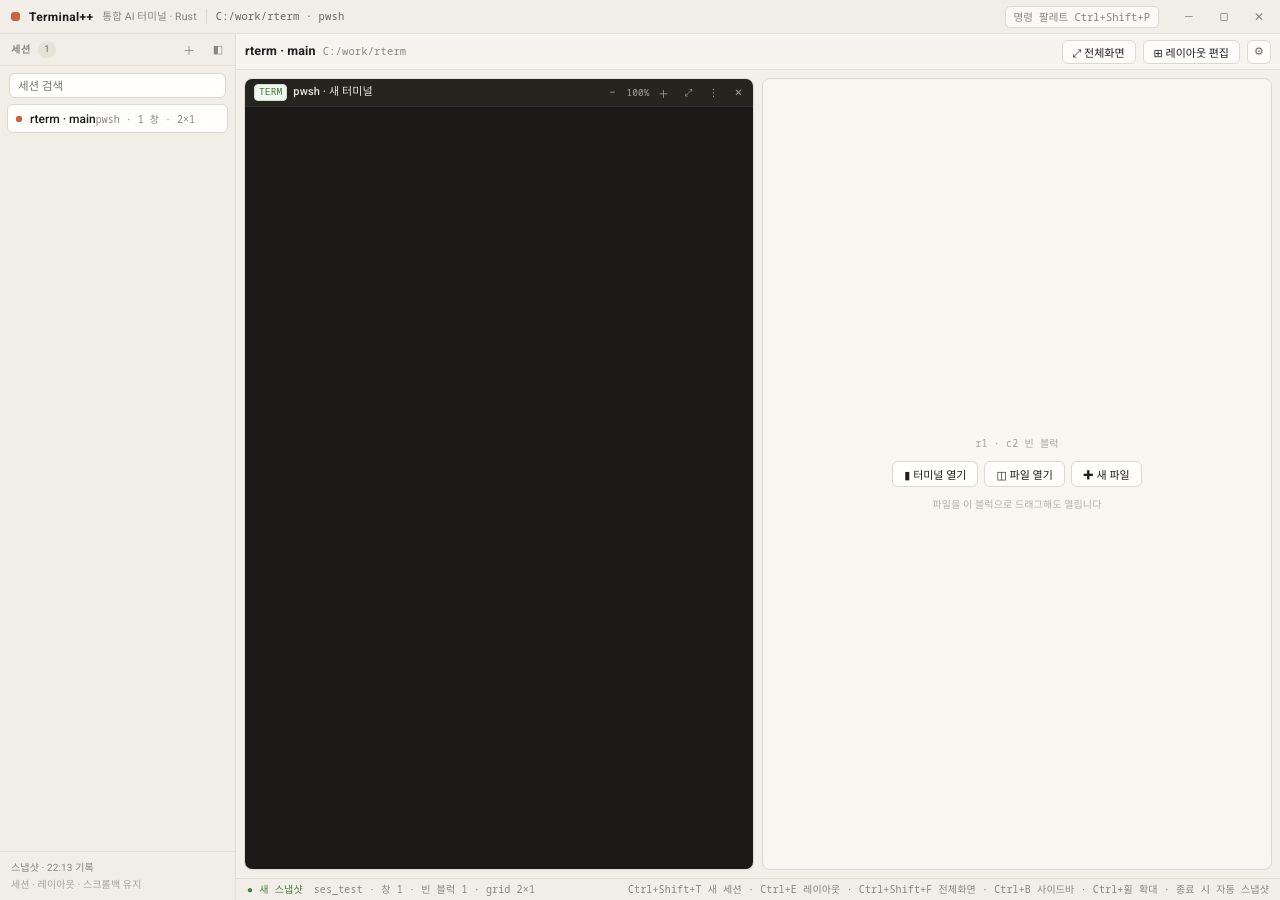
Test: 새 세션 › ＋ 는 세션을 곧바로 만들지 않고 이름부터 묻는다
Click the button named "새 세션" at (189, 50), box [178, 38, 200, 60]
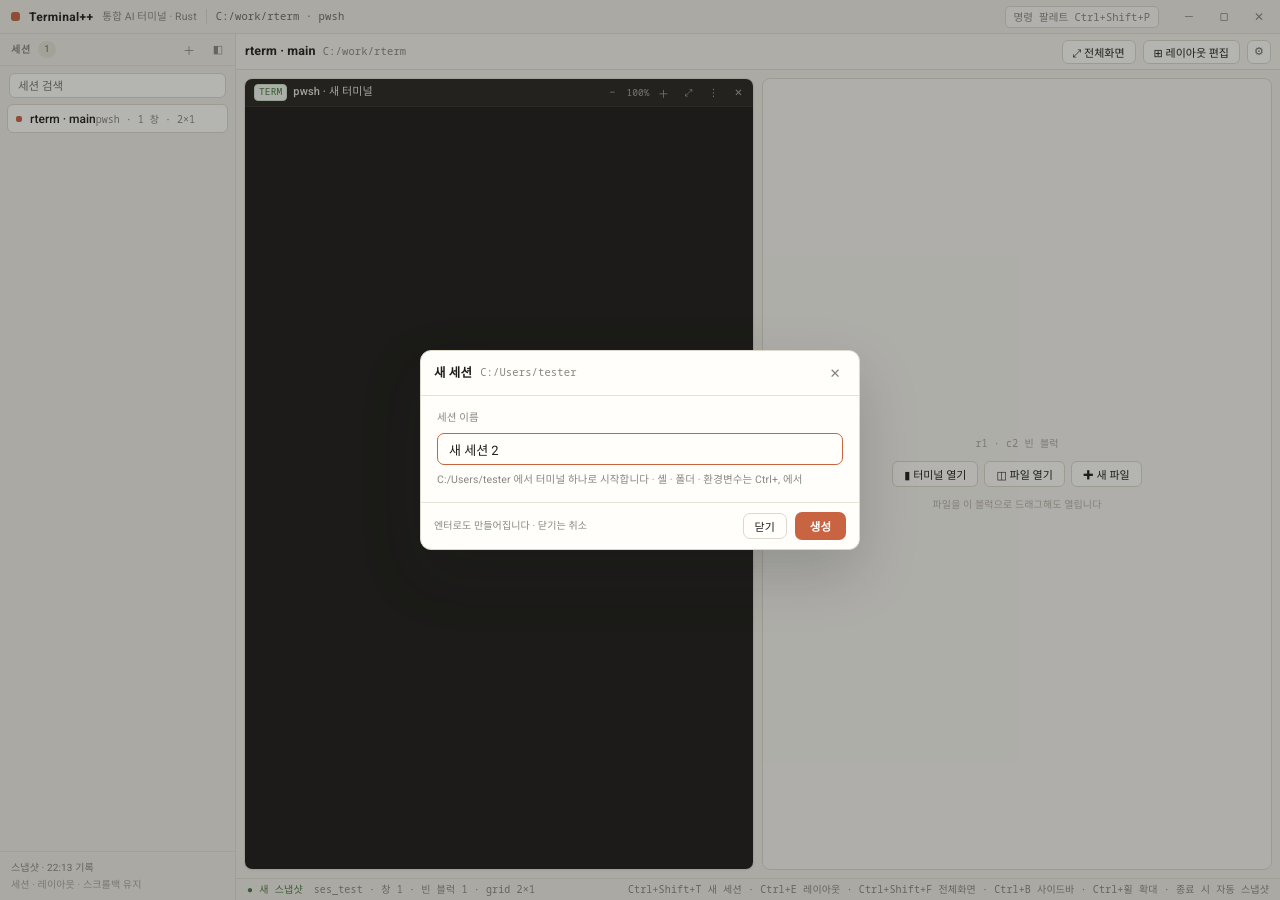
expect the text "새 세션" is shown: met, box [434, 364, 472, 383]
expect the field labelled "세션 이름" holds "새 세션 2": met, box [437, 433, 843, 465]
